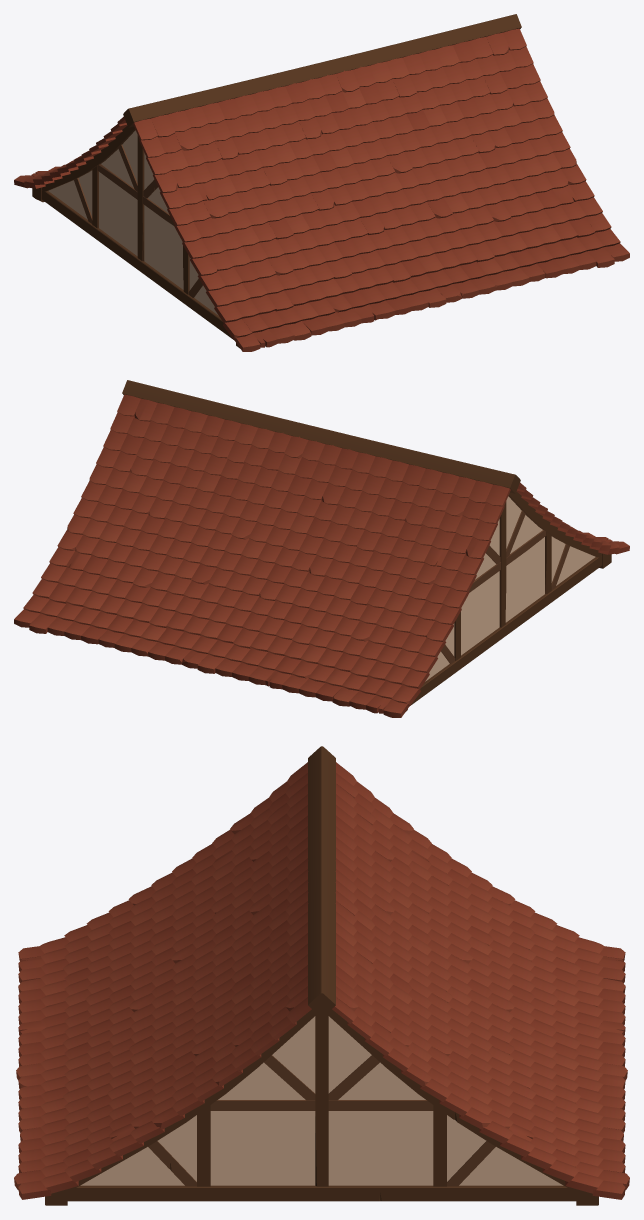
Rendered from HouseRoof_14.glb.
3 renders of one model, top to bottom at view 1: azimuth 30°, elevation 25°; view 2: azimuth 150°, elevation 25°; view 3: azimuth 270°, elevation 25°, orthographic. The views are drawn at different scales.
Parts seen in each view (by area): view 1: HouseRoof_14_LOD0; view 2: HouseRoof_14_LOD0; view 3: HouseRoof_14_LOD0.
Part boxes in pixels (bbox=[...]): HouseRoof_14_LOD0: bbox=[14, 14, 629, 351]; HouseRoof_14_LOD0: bbox=[14, 380, 629, 717]; HouseRoof_14_LOD0: bbox=[14, 746, 629, 1205].
Size of what is drawn, in the model's own units: 10.9 by 4.5 by 11.49.
Materials: 1 (1 with a texture image).
